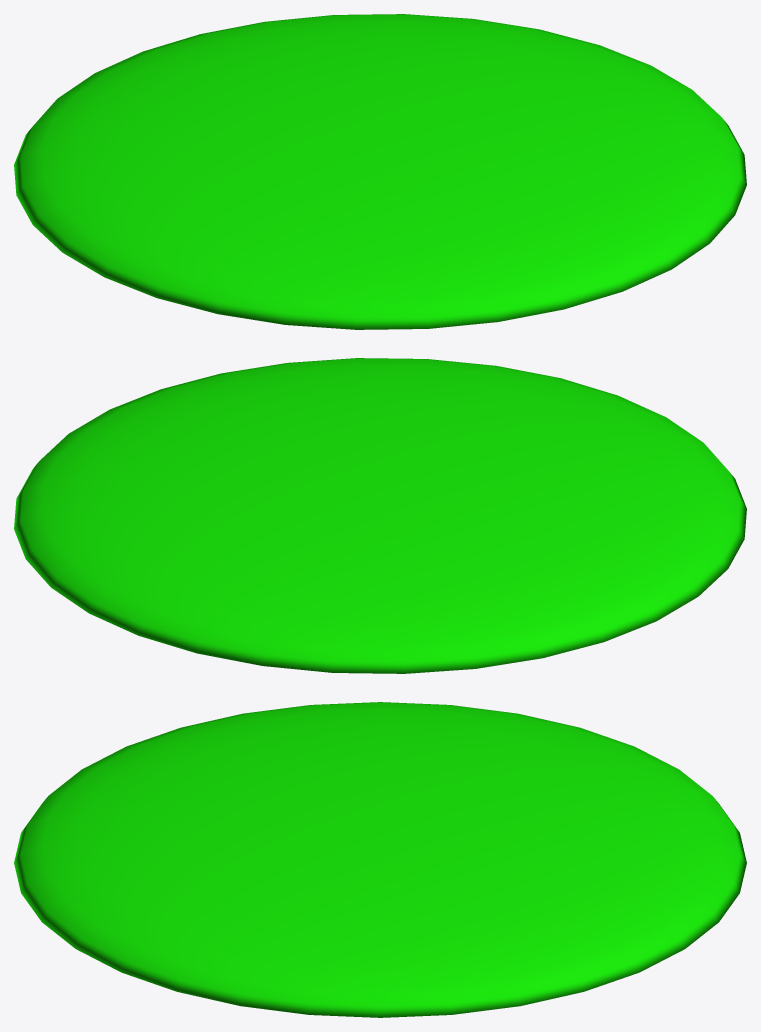
The model's file is mosspatchbounce.glb.
3 views of the same model, one above another, from view 1: azimuth 30°, elevation 25°; view 2: azimuth 150°, elevation 25°; view 3: azimuth 270°, elevation 25° (orthographic).
Parts seen in each view (by area): view 1: Sphere; view 2: Sphere; view 3: Sphere.
Boxes of the visible parts, x1,y1,x2,y2 form: Sphere: (14,14,746,329); Sphere: (14,358,746,673); Sphere: (14,702,746,1017).
Size of the model in its own units: 8 by 0.527 by 8.
